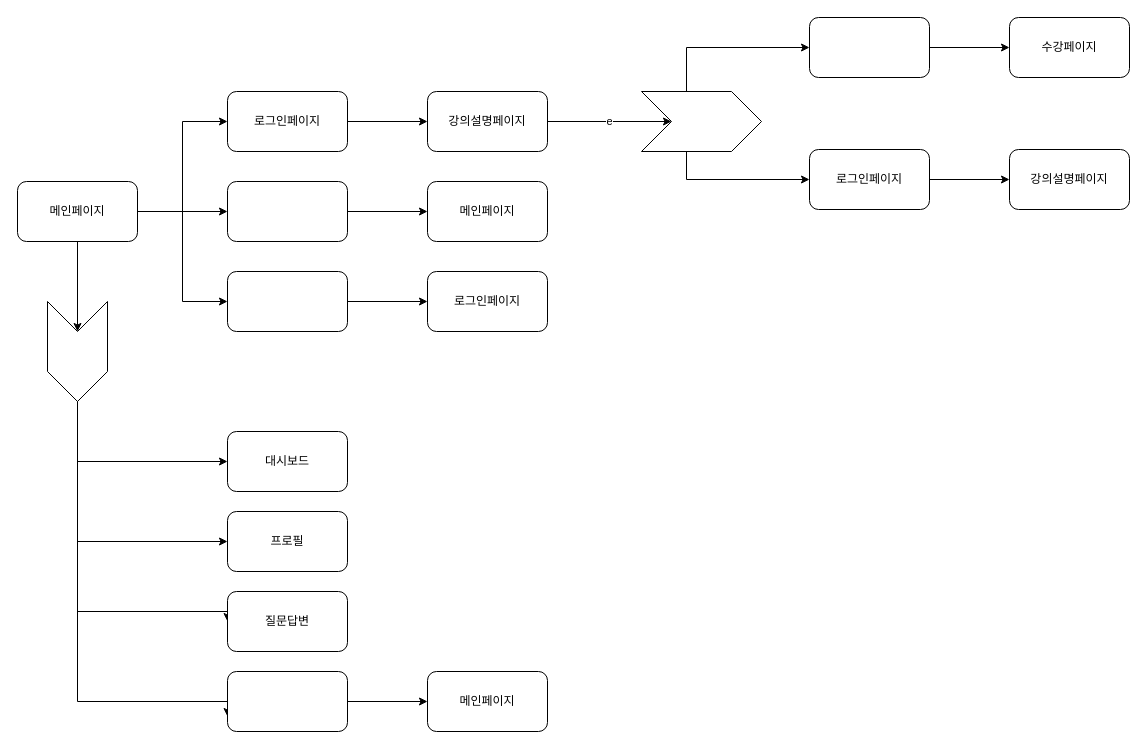
This 1147x749 diagram has some shape labels left out. The shapes that lost their labels are listed below. From the top down, each one's box as (x1, y1, x2, y2) in pixels, then its label:
(808, 16, 930, 78): 결제팝업페이지
(640, 90, 762, 152): 등록하기
(226, 180, 348, 242): 카탈로그페이지
(226, 270, 348, 332): 회원가입페이지
(46, 300, 108, 402): 로그인 했을때
(226, 670, 348, 732): 로그아웃
